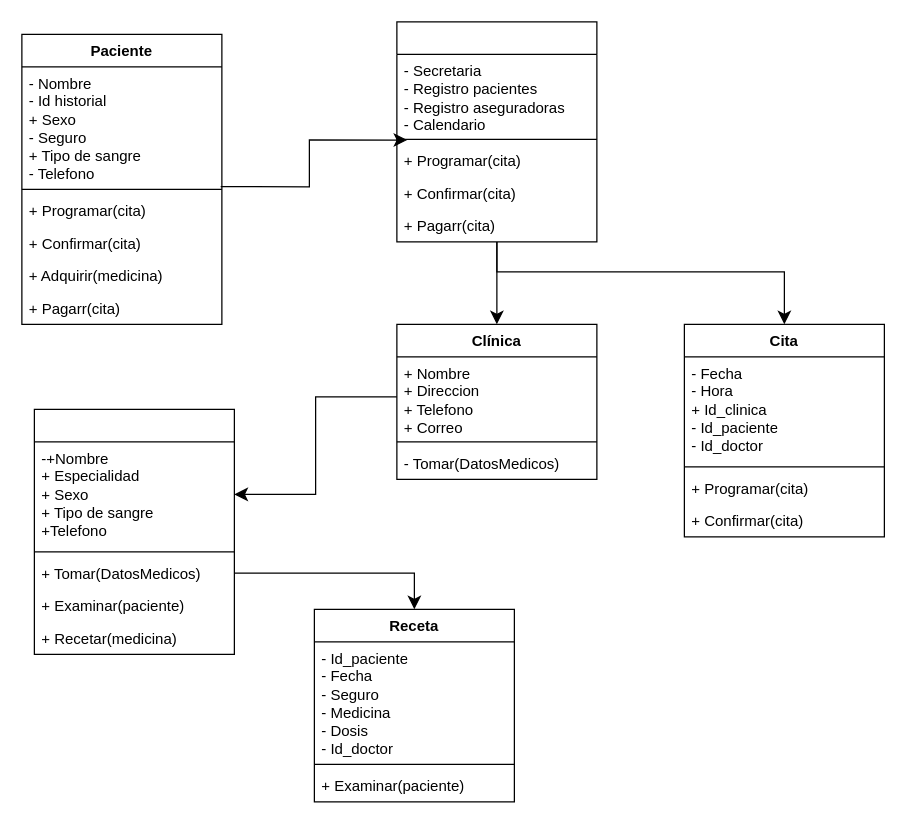
This 906x828 diagram has some shape labels left out. The shapes that lost their labels are listed below. From the top down, each one's box as (x1, y1, x2, y2) in pixels, then its label:
(396, 21, 597, 242): Recepcion
(33, 408, 234, 654): Doctor
